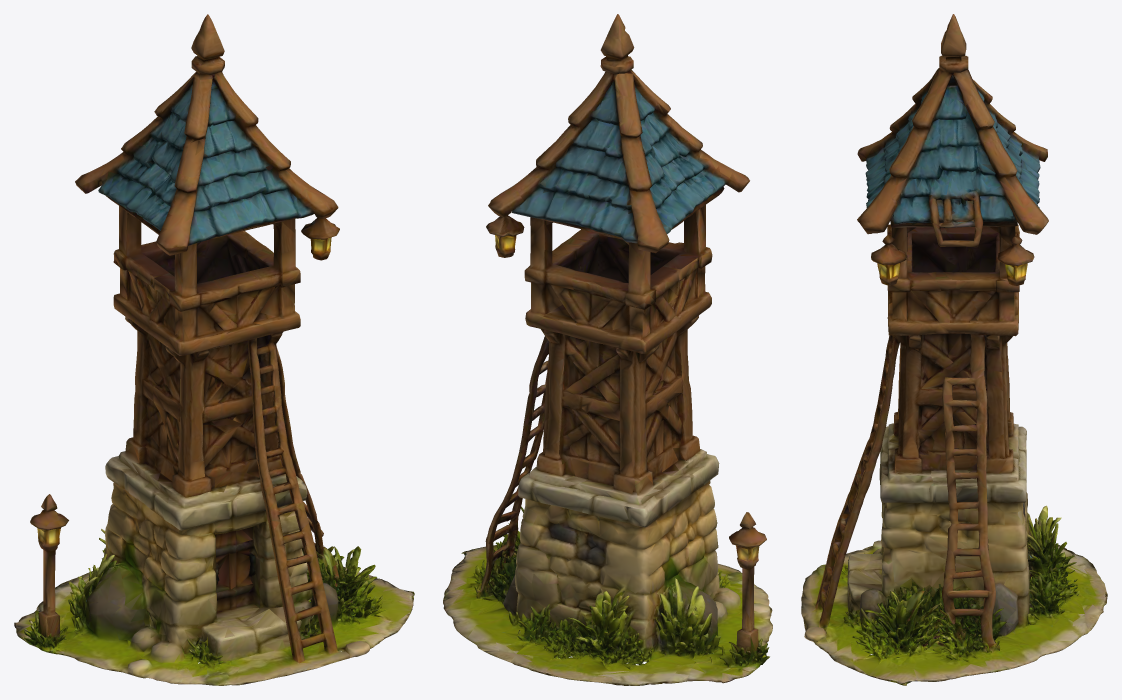
File: Watchtower_T1.glb
3 renders of one model, left to right at view 1: azimuth 30°, elevation 25°; view 2: azimuth 150°, elevation 25°; view 3: azimuth 270°, elevation 25°, orthographic. The views are drawn at different scales.
Parts seen in each view (by area): view 1: Watchtower_T1; view 2: Watchtower_T1; view 3: Watchtower_T1.
Part boxes in pixels (x1,y1,x2,y2): Watchtower_T1: (14,14,414,685); Watchtower_T1: (443,14,772,685); Watchtower_T1: (801,14,1107,685).
Bounding box in the file's own units: 1.15 × 1.9 × 0.9019.
Materials: 1 (1 with a texture image).
